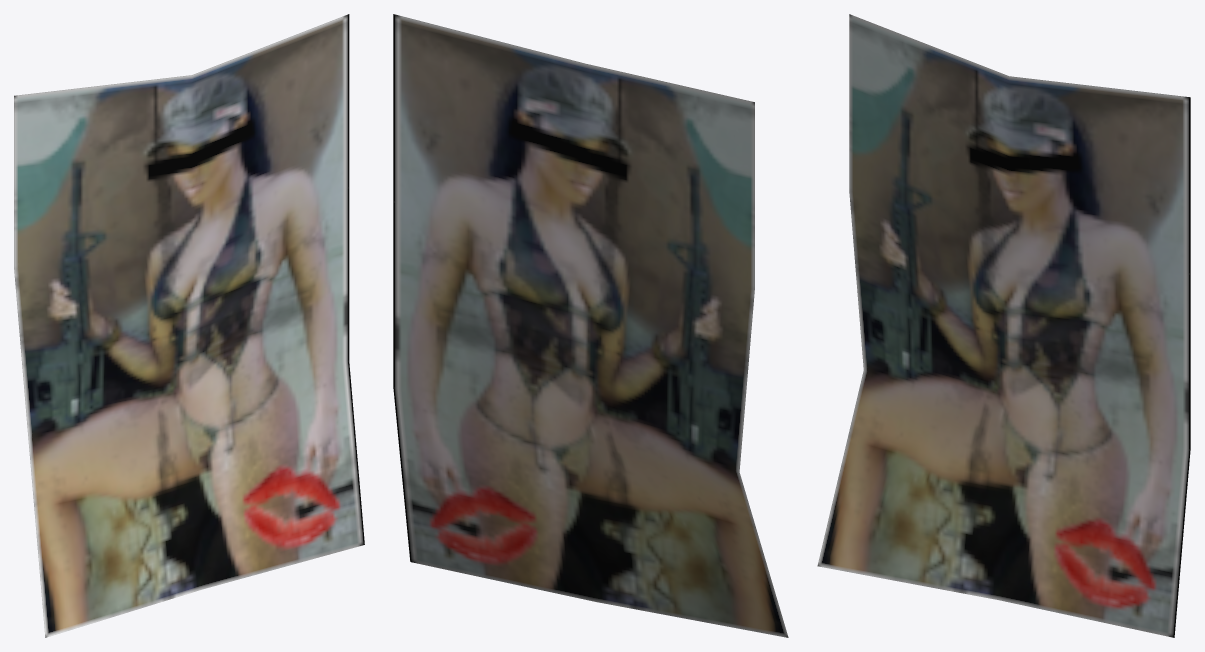
File: cartel_poster.FBX
3 views of the same model, side by side, from view 1: azimuth 30°, elevation 25°; view 2: azimuth 150°, elevation 25°; view 3: azimuth 330°, elevation 25° (orthographic). The views are drawn at different scales.
Visible parts, largest first — view 1: cartel_poster; view 2: cartel_poster; view 3: cartel_poster.
Boxes of the visible parts, bbox=[...] form: cartel_poster: bbox=[14, 14, 364, 637]; cartel_poster: bbox=[393, 14, 788, 637]; cartel_poster: bbox=[817, 14, 1190, 637].
Size of the model in its own units: 30.86 by 45.71 by 4.98.
